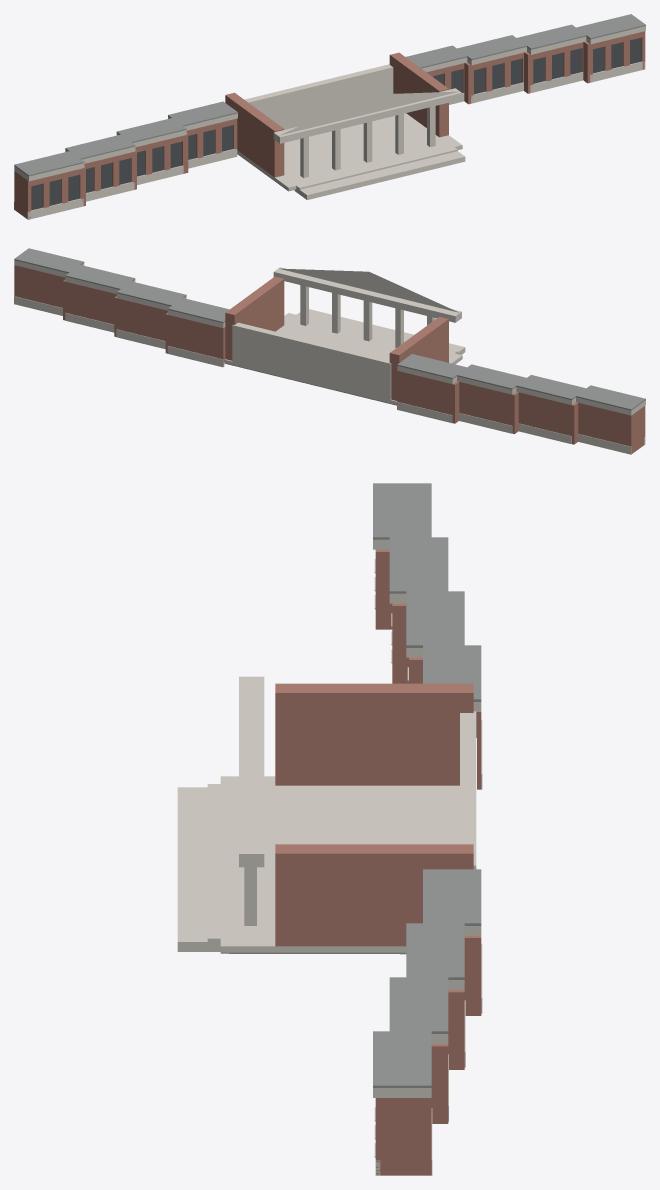
3 views of the same model, one above another, from view 1: azimuth 30°, elevation 25°; view 2: azimuth 150°, elevation 25°; view 3: azimuth 270°, elevation 25° (orthographic). The views are drawn at different scales.
Parts seen in each view (by area): view 1: open-air-theater__preservedStage_stone, open-air-theater__preservedStage_roof, open-air-theater__wingFrontOpenings, open-air-theater__preservedStage_brick, open-air-theater__wingFrontPiers, open-air-theater__wingBaseBand, open-air-theater__frontAccessLowerTread, open-air-theater__wingFrontLintels, open-air-theater__wingJointPiers, open-air-theater__frontAccessUpperTread, open-air-theater__wingEndWalls, open-air-theater__wingOpeningSills; view 2: open-air-theater__preservedStage_stone, open-air-theater__wingRearWall, open-air-theater__preservedStage_roof, open-air-theater__preservedStage_brick, open-air-theater__wingRearBase, open-air-theater__wingJointPiers, open-air-theater__wingEndWalls, open-air-theater__frontAccessLowerTread, open-air-theater__frontAccessUpperTread; view 3: open-air-theater__preservedStage_brick, open-air-theater__preservedStage_stone, open-air-theater__preservedStage_roof, open-air-theater__wingJointPiers, open-air-theater__frontAccessLowerTread, open-air-theater__wingEndWalls, open-air-theater__frontAccessUpperTread.
Part boxes in pixels (x1,y1,x2,y2): open-air-theater__preservedStage_stone: (14, 26, 645, 190); open-air-theater__preservedStage_roof: (14, 14, 645, 176); open-air-theater__wingFrontOpenings: (31, 38, 641, 210); open-air-theater__preservedStage_brick: (225, 52, 448, 177); open-air-theater__wingFrontPiers: (27, 31, 645, 211); open-air-theater__wingBaseBand: (27, 61, 645, 219); open-air-theater__frontAccessLowerTread: (299, 151, 465, 199); open-air-theater__wingFrontLintels: (31, 32, 642, 186); open-air-theater__wingJointPiers: (82, 41, 592, 206); open-air-theater__frontAccessUpperTread: (294, 146, 457, 194); open-air-theater__wingEndWalls: (14, 31, 645, 219); open-air-theater__wingOpeningSills: (31, 61, 642, 211); open-air-theater__preservedStage_stone: (14, 260, 645, 415); open-air-theater__wingRearWall: (14, 265, 632, 454); open-air-theater__preservedStage_roof: (14, 248, 645, 410); open-air-theater__preservedStage_brick: (224, 276, 448, 400); open-air-theater__wingRearBase: (14, 296, 631, 454); open-air-theater__wingJointPiers: (63, 280, 578, 444); open-air-theater__wingEndWalls: (14, 266, 645, 453); open-air-theater__frontAccessLowerTread: (309, 309, 465, 354); open-air-theater__frontAccessUpperTread: (296, 312, 457, 353); open-air-theater__preservedStage_brick: (275, 683, 473, 946); open-air-theater__preservedStage_stone: (220, 539, 481, 1097); open-air-theater__preservedStage_roof: (373, 483, 481, 1087); open-air-theater__wingJointPiers: (375, 549, 481, 1123); open-air-theater__frontAccessLowerTread: (177, 787, 220, 951); open-air-theater__wingEndWalls: (375, 1098, 431, 1175); open-air-theater__frontAccessUpperTread: (207, 784, 227, 950).
Bounding box in the file's own units: 78 × 8.9 × 16.68.
